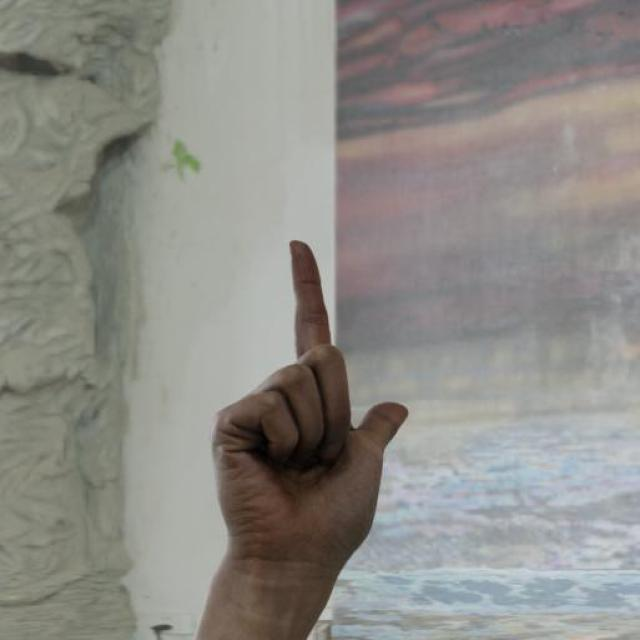L: (202, 228, 411, 590)
